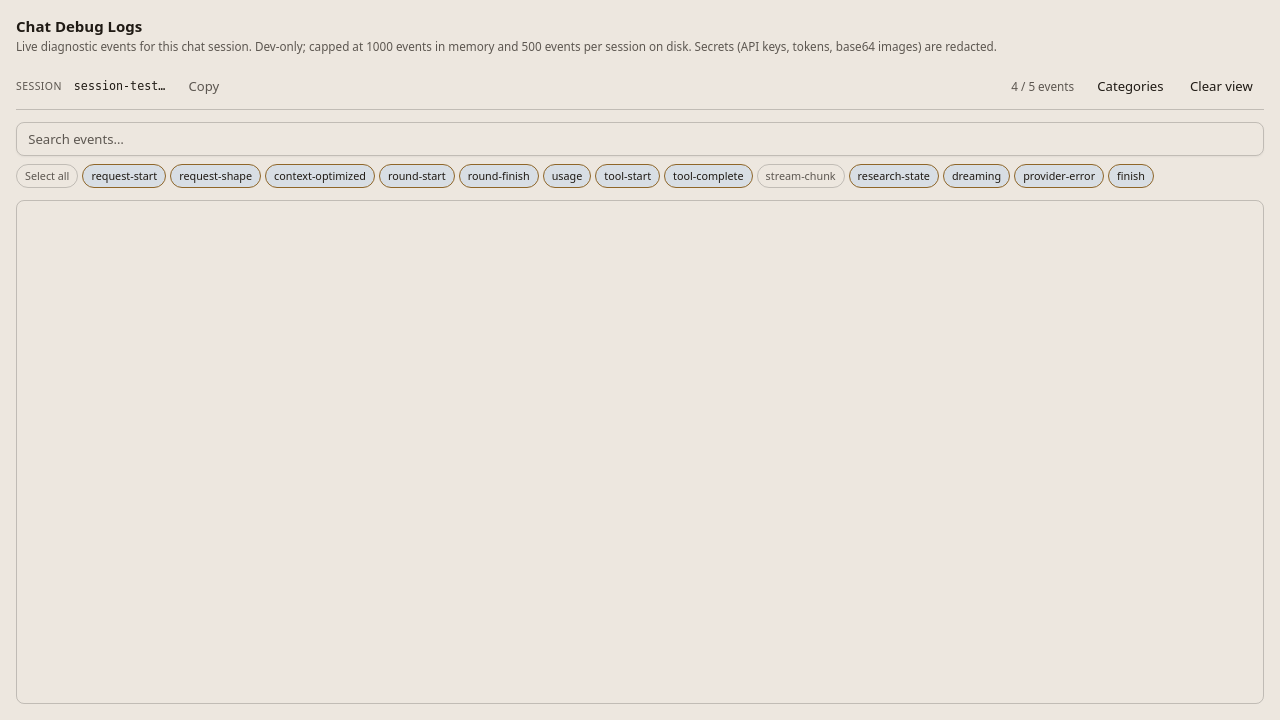
ChatDebugPanelView (standalone window) › shows the count metabar with filtered/total events
Expected: the text "4 / 5 events" is shown, x1=1011 y1=78 x2=1074 y2=95
Type "tool" into the field with placeholder "Search events…". click: (640, 139)
box: x1=16 y1=122 x2=1264 y2=156
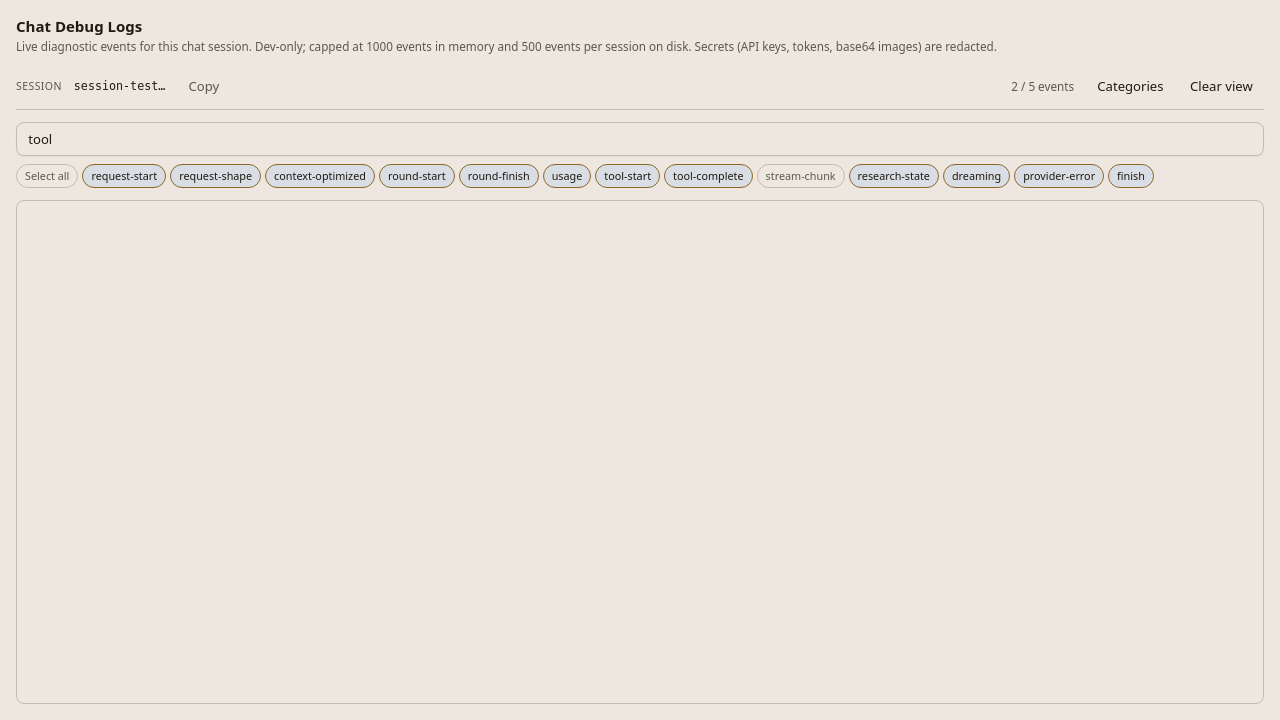
Expected: the text "2 / 5 events" is shown, x1=1011 y1=78 x2=1074 y2=95
